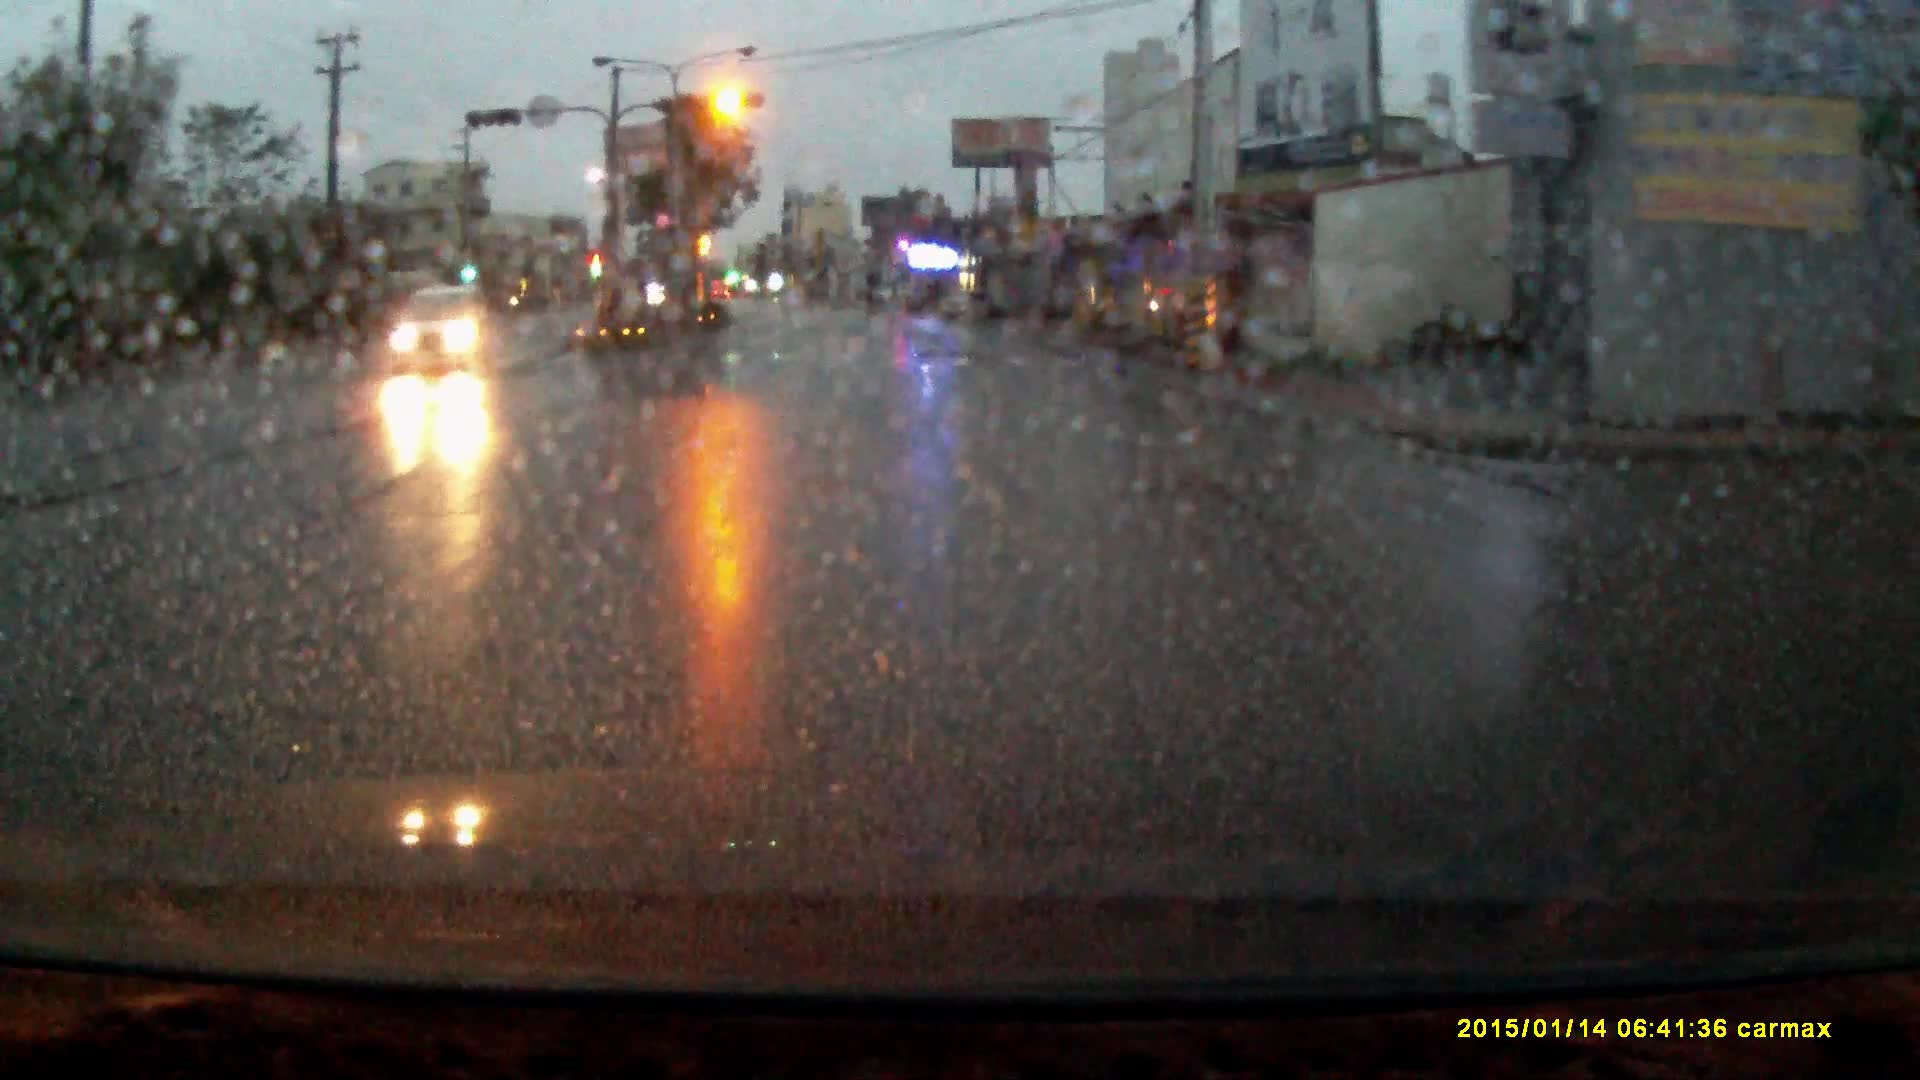vehicle: (394, 286, 496, 371)
